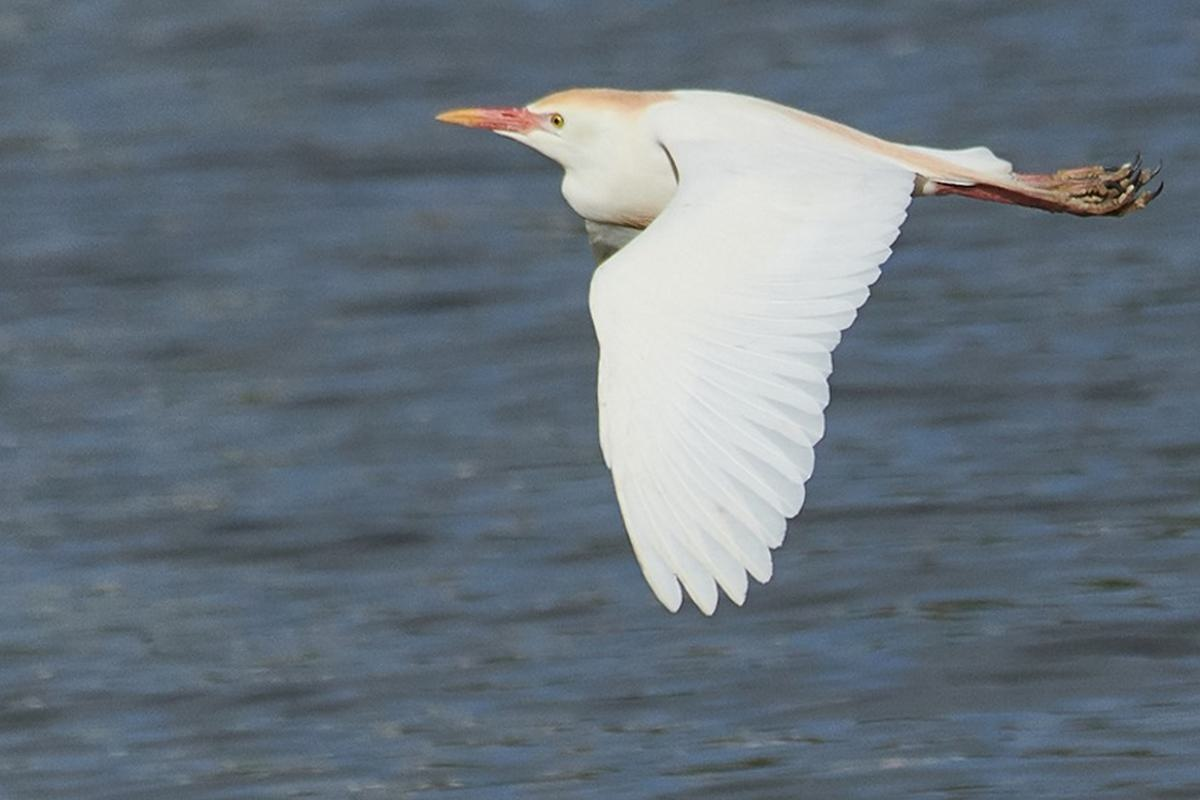egret: (424, 48, 1148, 587)
